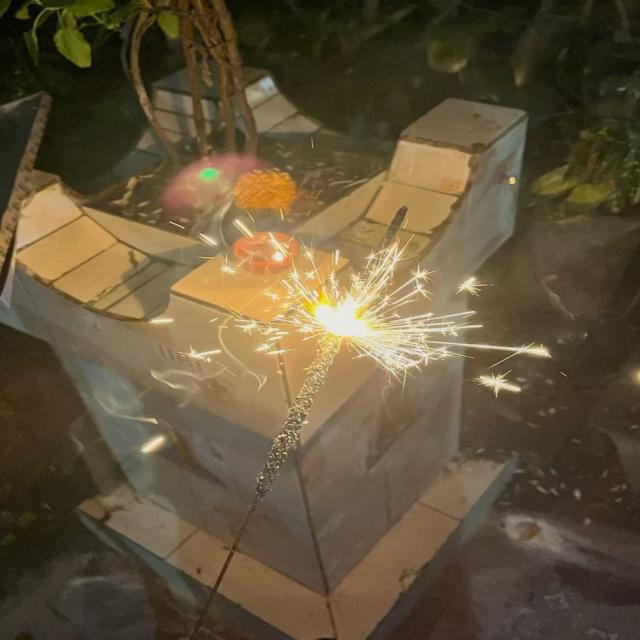fire: (309, 296, 371, 334)
